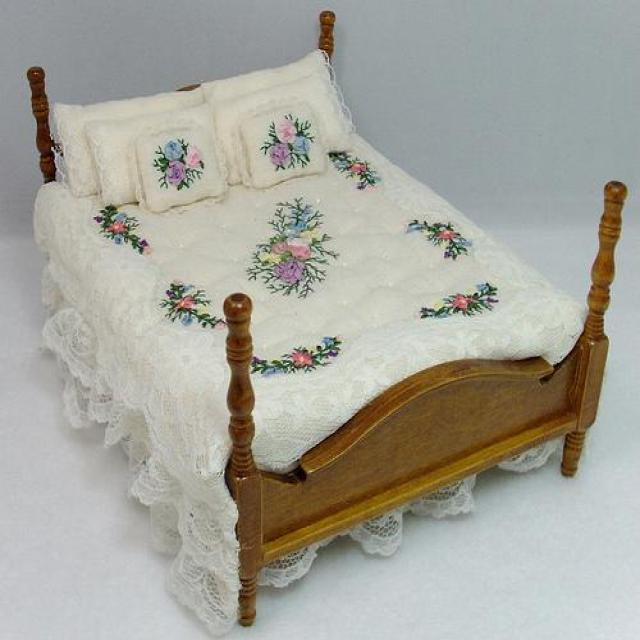bed: (24, 8, 628, 629)
